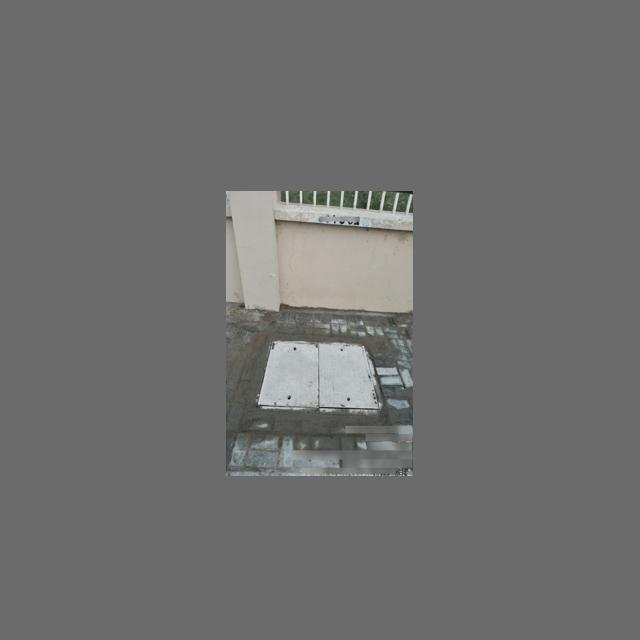good: (256, 340, 384, 412)
